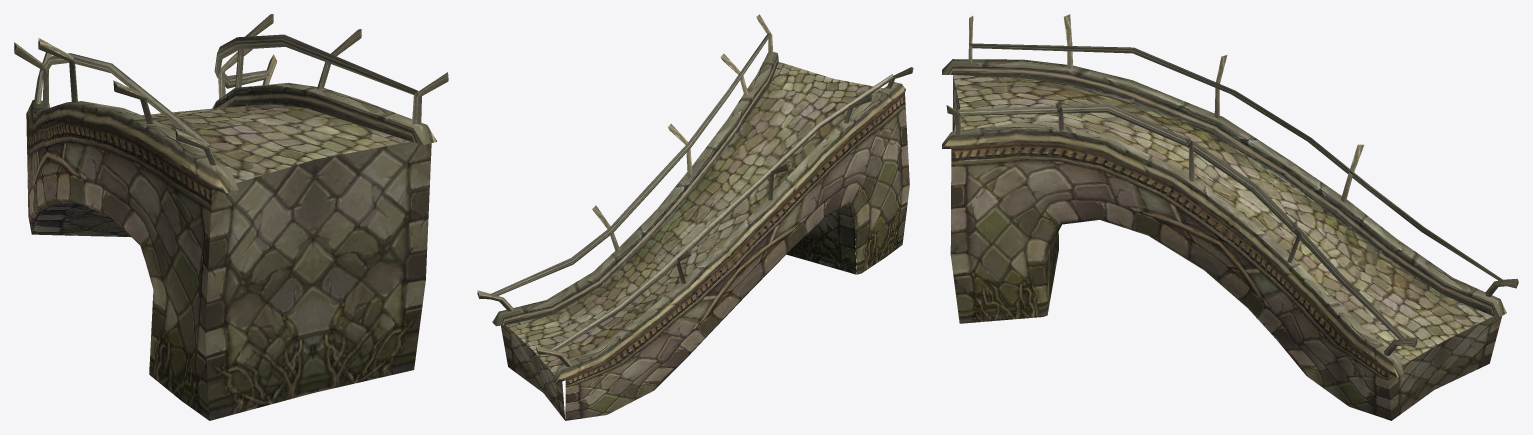
3 views of the same model, side by side, from view 1: azimuth 30°, elevation 25°; view 2: azimuth 150°, elevation 25°; view 3: azimuth 270°, elevation 25° (orthographic). The views are drawn at different scales.
Parts seen in each view (by area): view 1: DN_lv3_sd_bd09; view 2: DN_lv3_sd_bd09; view 3: DN_lv3_sd_bd09.
Part boxes in pixels (bbox=[...]): DN_lv3_sd_bd09: bbox=[14, 14, 448, 420]; DN_lv3_sd_bd09: bbox=[477, 14, 913, 420]; DN_lv3_sd_bd09: bbox=[942, 14, 1518, 420].
Bounding box in the file's own units: 924 × 821 × 1543.
